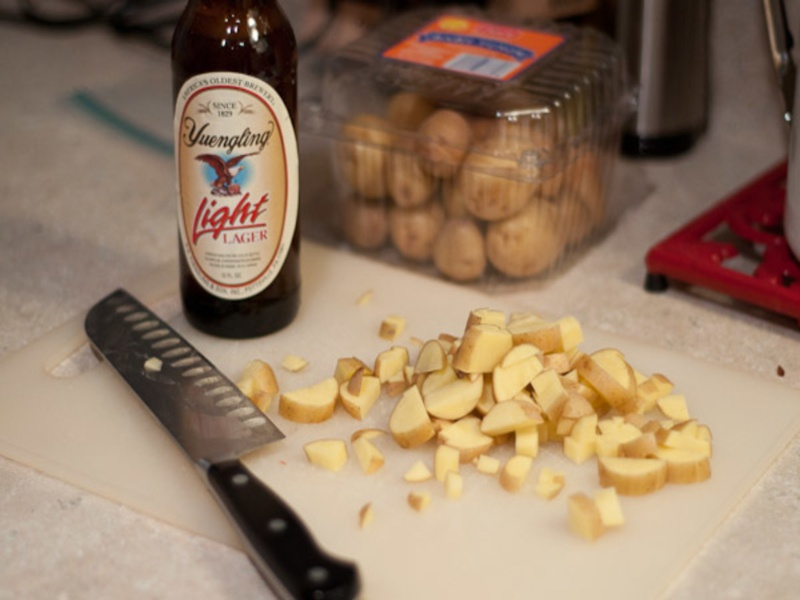knife: (82, 285, 362, 600)
